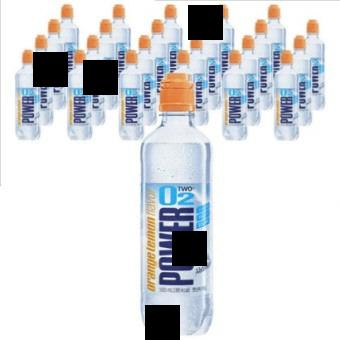powerO2_orange: (142, 81, 215, 339)
